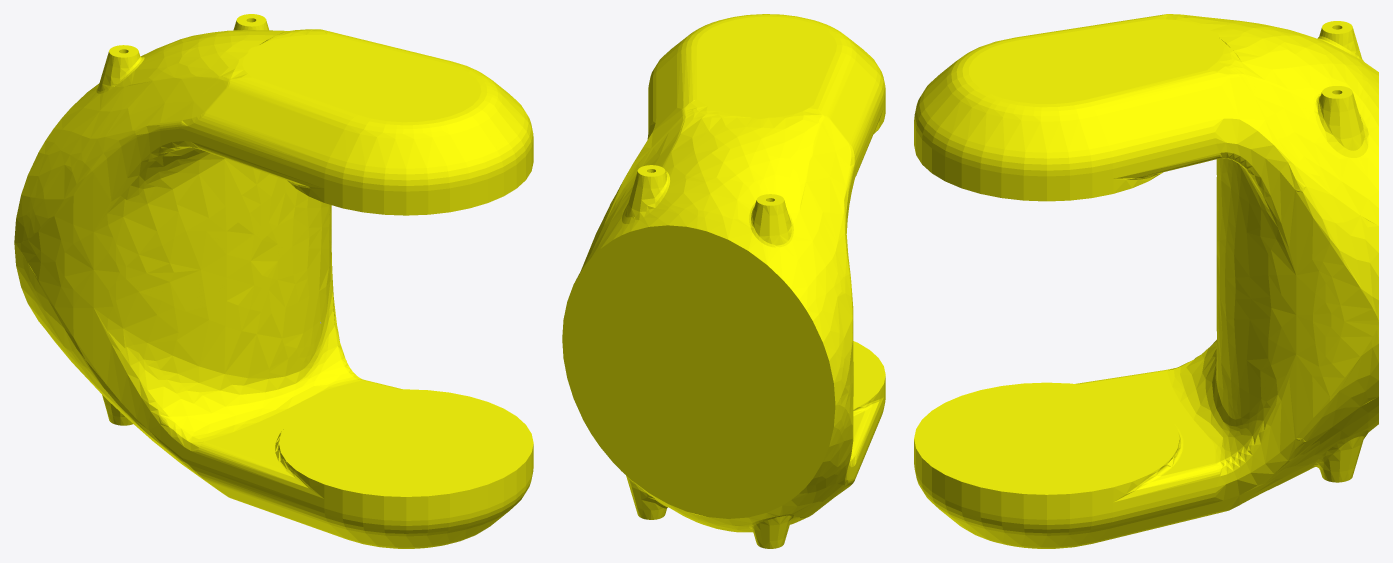
3 views of the same model, side by side, from view 1: azimuth 30°, elevation 25°; view 2: azimuth 150°, elevation 25°; view 3: azimuth 270°, elevation 25° (orthographic). The views are drawn at different scales.
Parts seen in each view (by area): view 1: node; view 2: node; view 3: node.
Boxes of the visible parts, x1,y1,x2,y2 form: node: (14,14,533,548); node: (562,14,885,548); node: (914,14,1378,548).
Size of the model in its own units: 199 by 235 by 224.
